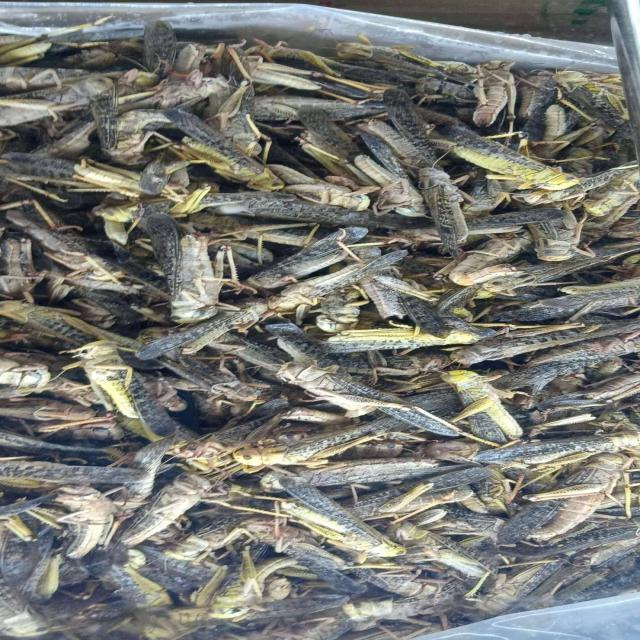ZhaMeng: (268, 356, 464, 442), (262, 478, 422, 562), (150, 104, 288, 195), (62, 339, 182, 436), (435, 122, 580, 194), (142, 220, 235, 326), (533, 450, 624, 545), (241, 223, 370, 288), (107, 474, 217, 548), (404, 166, 491, 257), (429, 366, 533, 440), (307, 320, 485, 353), (471, 560, 569, 613)
